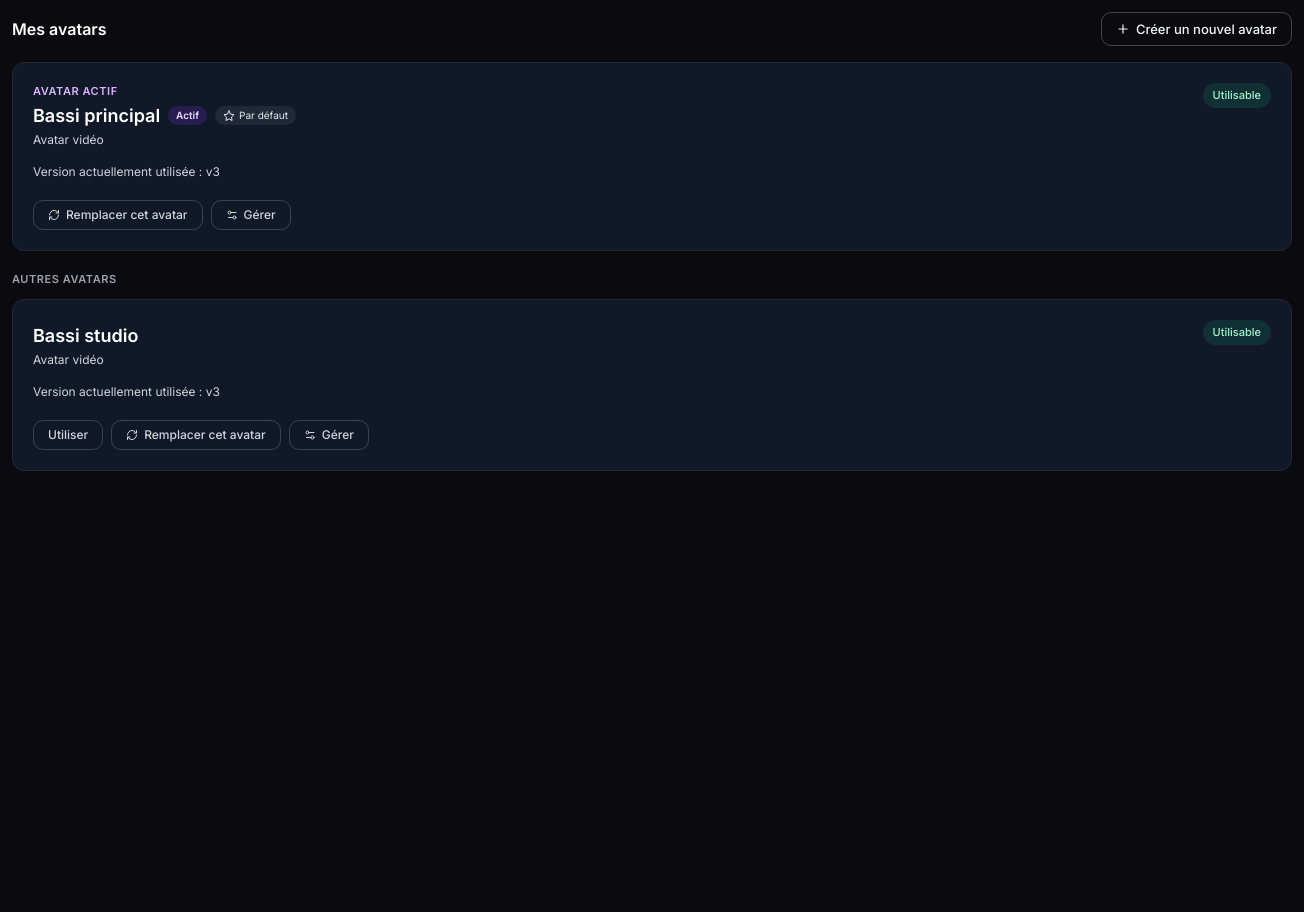
Test case: Mes avatars › plusieurs identités : « Utiliser » sur celle qui n’est pas par défaut ; Gérer montre « Revenir à cette version »
The width and height of the screenshot is (1304, 912).
Click the button "Utiliser" at [68, 435], box [33,420,103,450]
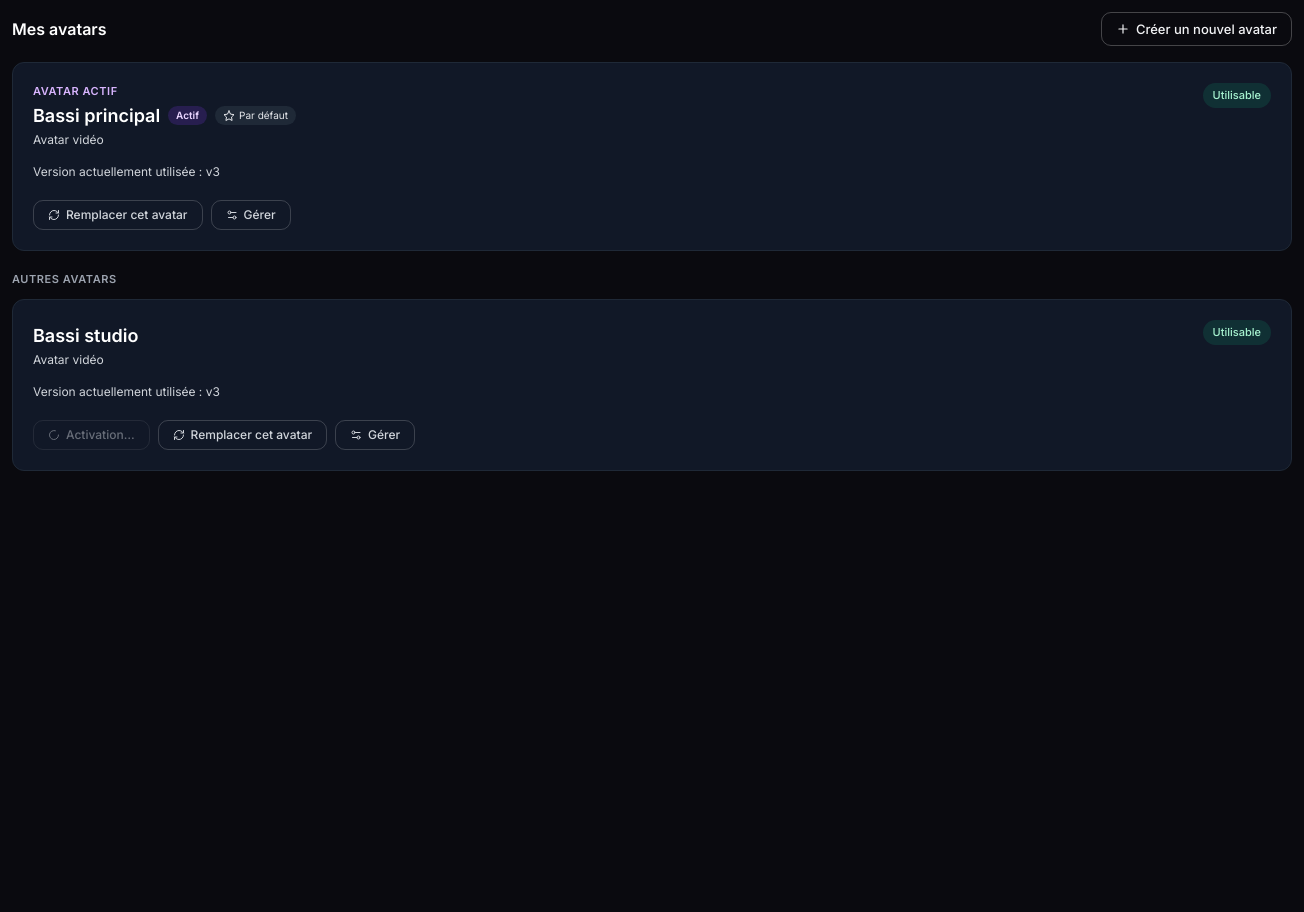
Click the button "Gérer" below "Bassi studio" at [375, 435], box [335,420,415,450]
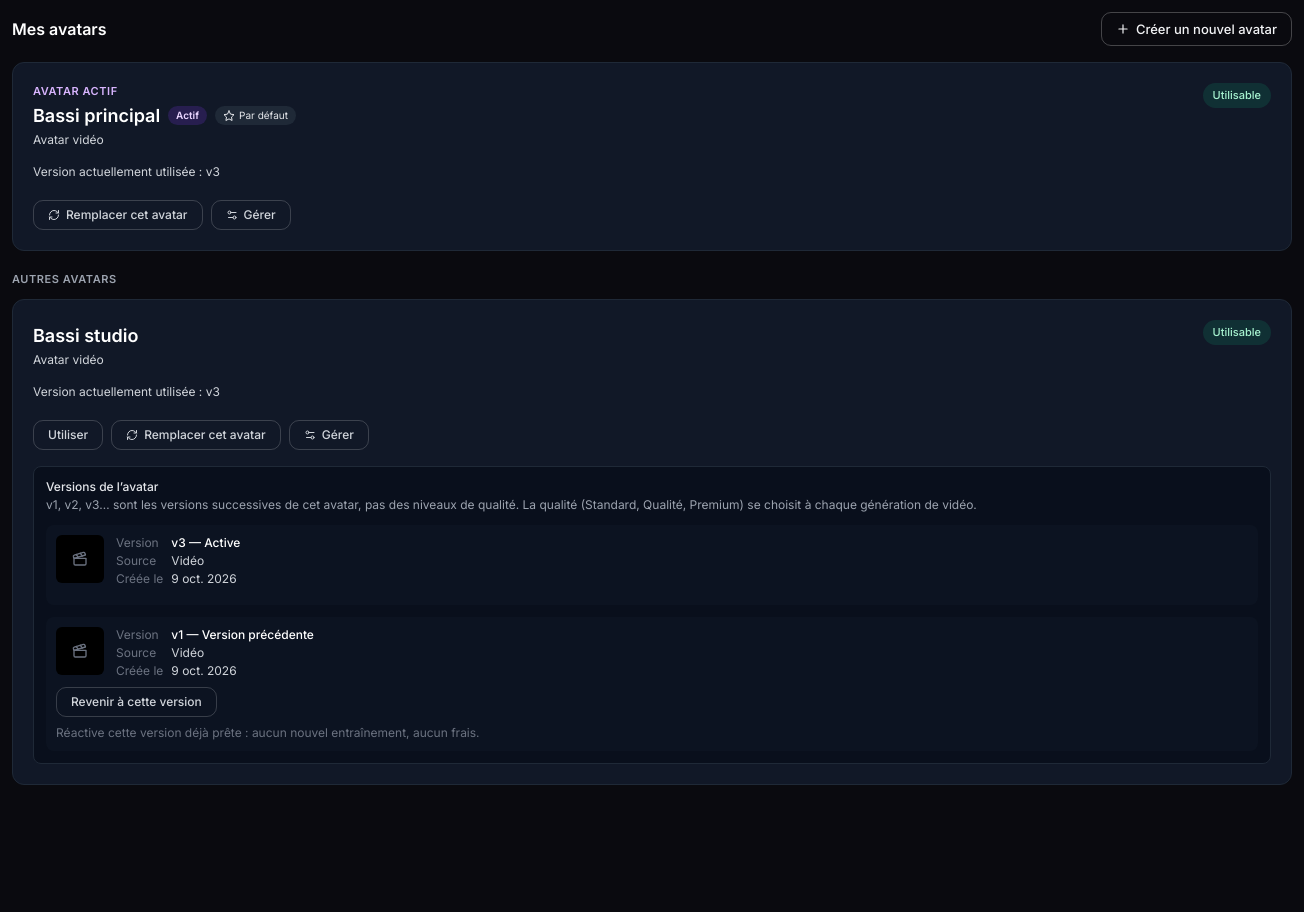
Expected: the button "Revenir à cette version" is shown, [56,687,217,717]
